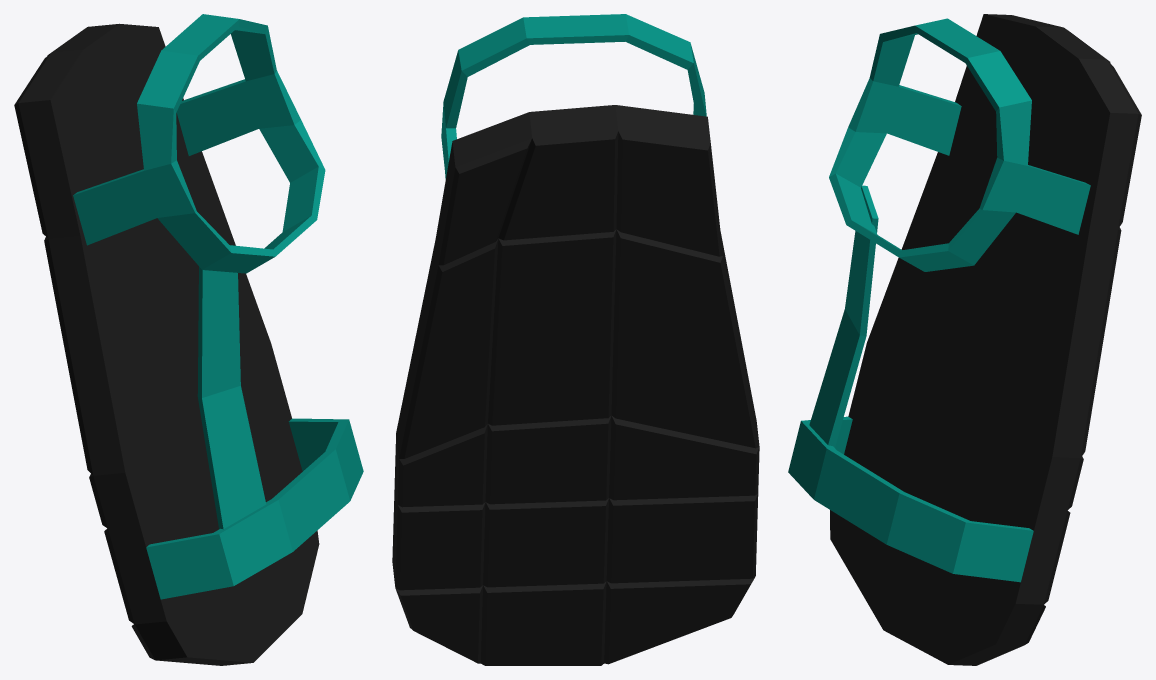
3 views of the same model, side by side, from view 1: azimuth 30°, elevation 25°; view 2: azimuth 150°, elevation 25°; view 3: azimuth 270°, elevation 25° (orthographic). The views are drawn at different scales.
Parts seen in each view (by area): view 1: Sandal_Cube.035; view 2: Sandal_Cube.035; view 3: Sandal_Cube.035.
Part boxes in pixels (box(x1,y1,x2,y2)): Sandal_Cube.035: box(14, 14, 363, 665); Sandal_Cube.035: box(392, 14, 759, 665); Sandal_Cube.035: box(788, 14, 1141, 665).
Bounding box in the file's own units: 0.4188 × 0.7792 × 0.4196.
